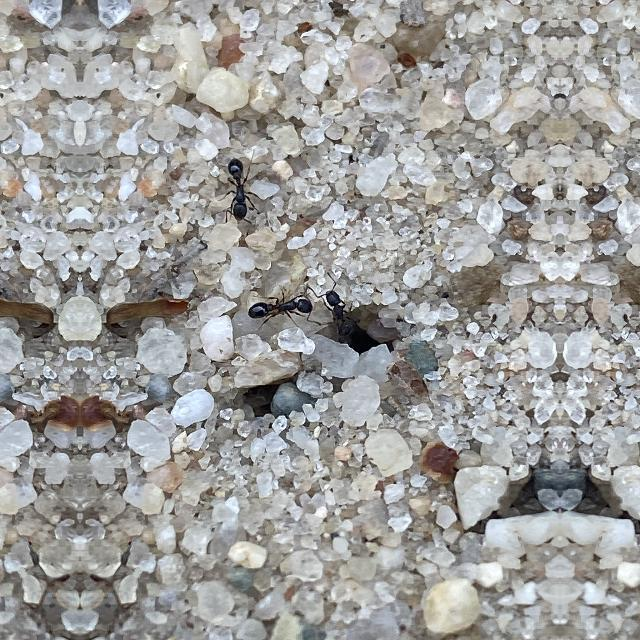Tetramorium: (214, 151, 264, 229), (244, 278, 316, 328), (314, 276, 361, 338)
